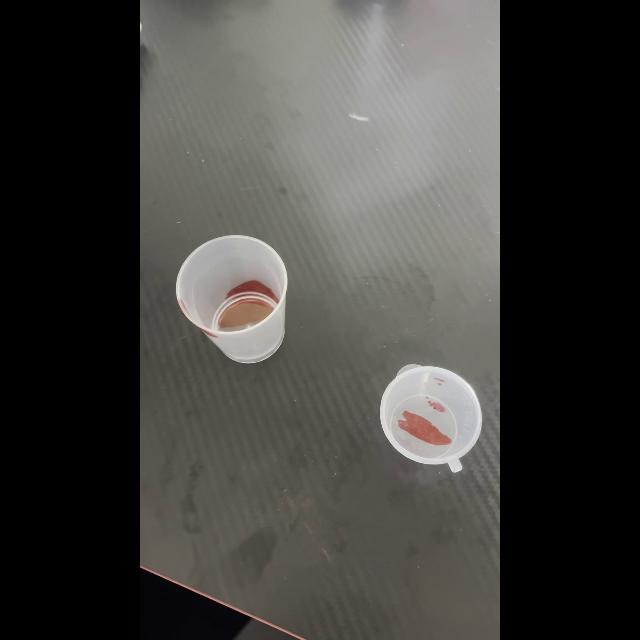dirty: (173, 236, 295, 366), (379, 364, 485, 470)
